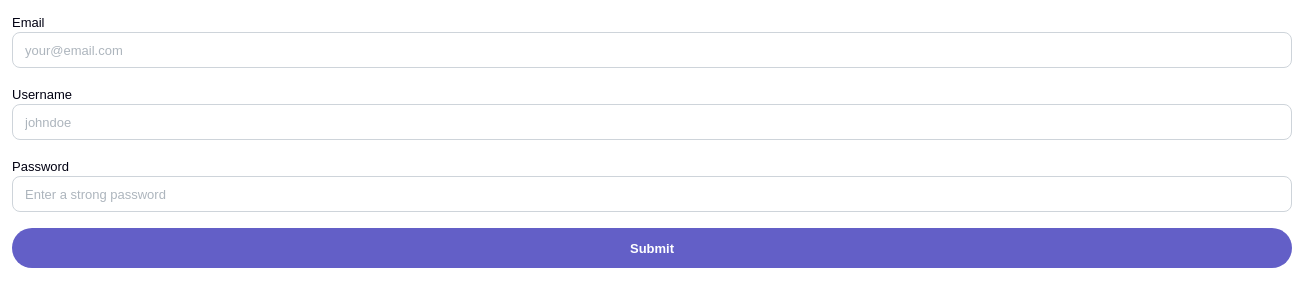
Test case: ExampleForm › should validate username format
Type "invalid user!" into the field with test id "input-username". click: x=652, y=122
box: [12,104,1292,140]
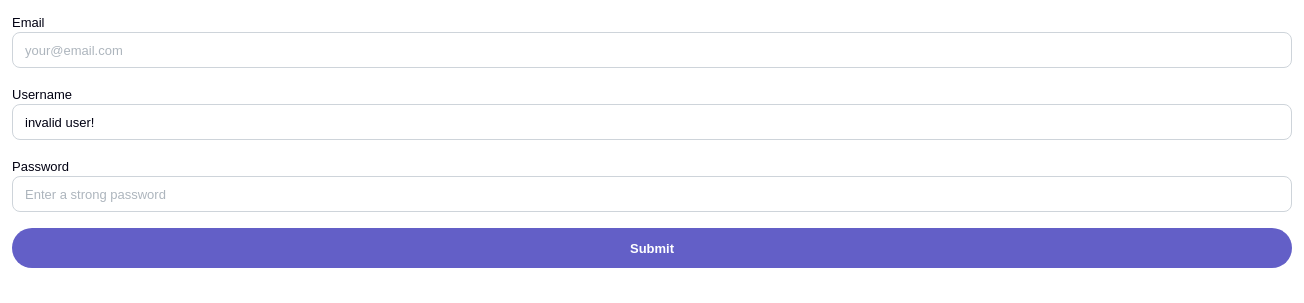
Leave the field with test id "input-username", box [12,104,1292,140]
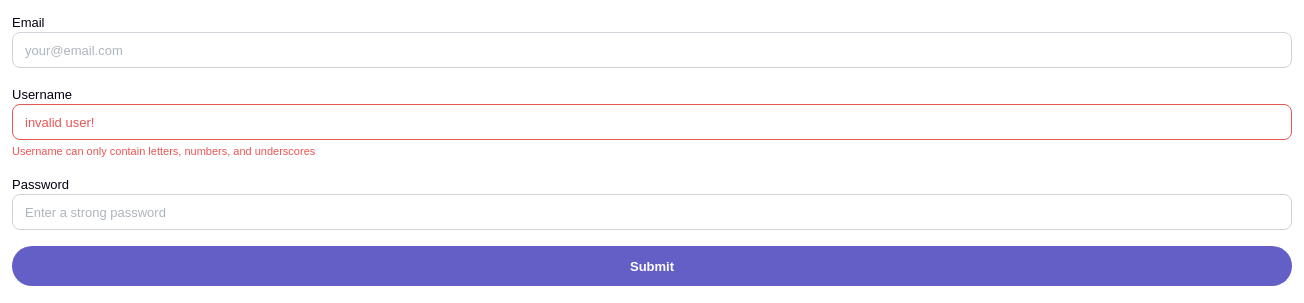
Expected: the text "Username can only contain letters, numbers, and underscores" is shown, [12,145,315,157]
